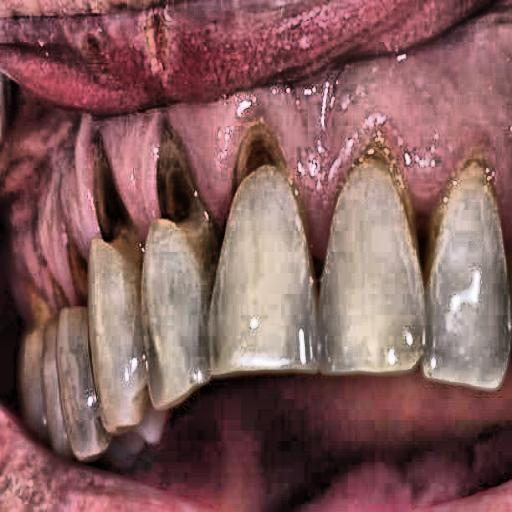Gingivitis: (245, 45, 512, 227), (10, 92, 224, 310)
